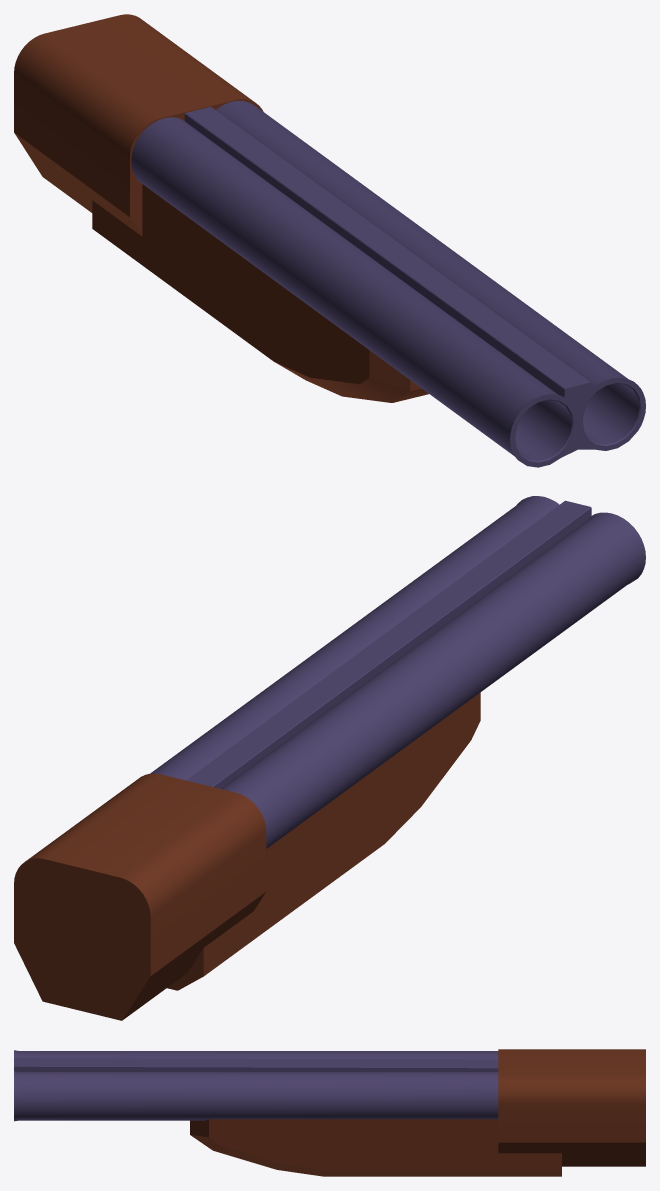
Rendered from barrel2.fbx.
3 renders of one model, top to bottom at view 1: azimuth 30°, elevation 25°; view 2: azimuth 150°, elevation 25°; view 3: azimuth 270°, elevation 25°, orthographic. The views are drawn at different scales.
Parts seen in each view (by area): view 1: barrel3; view 2: barrel3; view 3: barrel3.
Part boxes in pixels (x1,y1,x2,y2): barrel3: (14,14,645,467); barrel3: (14,496,645,1020); barrel3: (14,1049,645,1176).
Size of the model in its own units: 0.1338 by 0.1546 by 0.8412.
